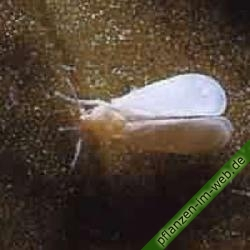whitefly: (51, 72, 236, 171)
